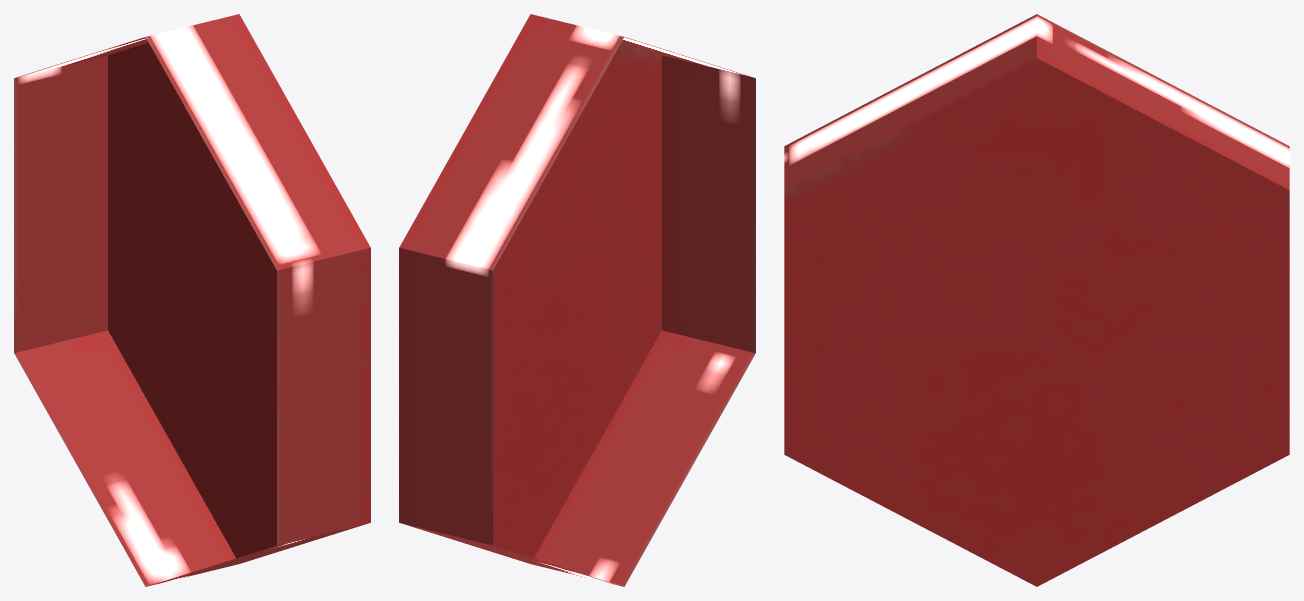
File: S_Butoon.fbx
The picture shows the model from 3 angles, left to right: view 1: azimuth 30°, elevation 25°; view 2: azimuth 150°, elevation 25°; view 3: azimuth 270°, elevation 25°; orthographic projection. The views are drawn at different scales.
Visible parts, largest first — view 1: S_Butoon; view 2: S_Butoon; view 3: S_Butoon.
Part boxes in pixels (<box>): S_Butoon: <box>14,14,370,586</box>; S_Butoon: <box>399,14,755,586</box>; S_Butoon: <box>784,14,1289,586</box>.
Size of the model in its own units: 8.55 by 47.9 by 41.49.
Materials: 1 (1 with a texture image).
